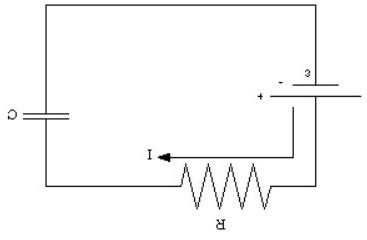Capacitor: (20, 96, 83, 136)
